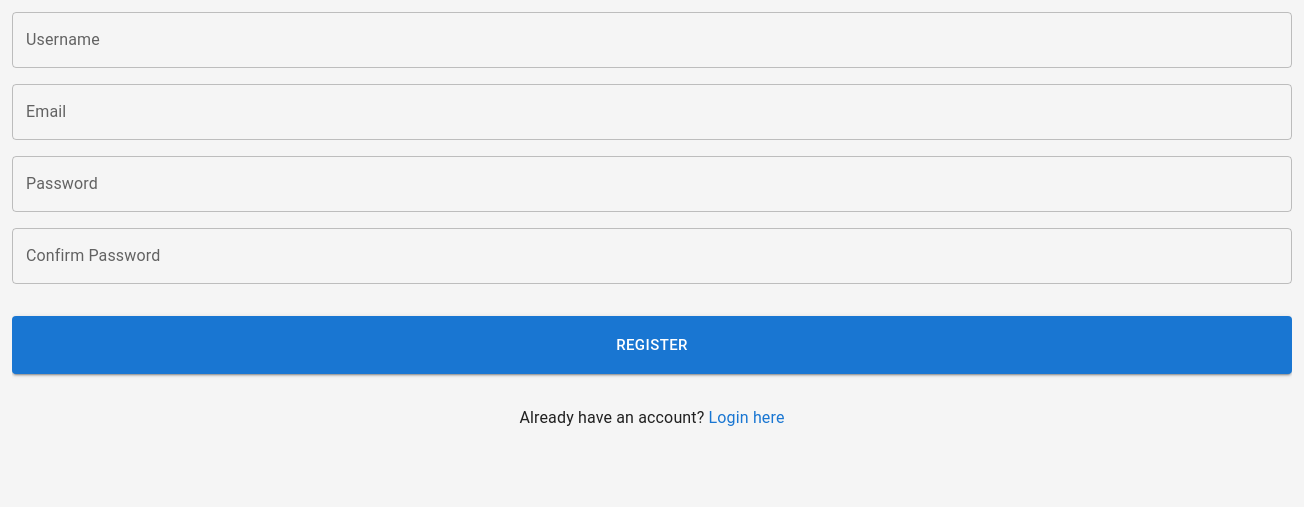
Test: RegisterForm › Correct inputs, error occurs
The width and height of the screenshot is (1304, 507).
Type "vojtisek123" into the field labelled "Username". click: (652, 40)
box: [12,12,1292,68]
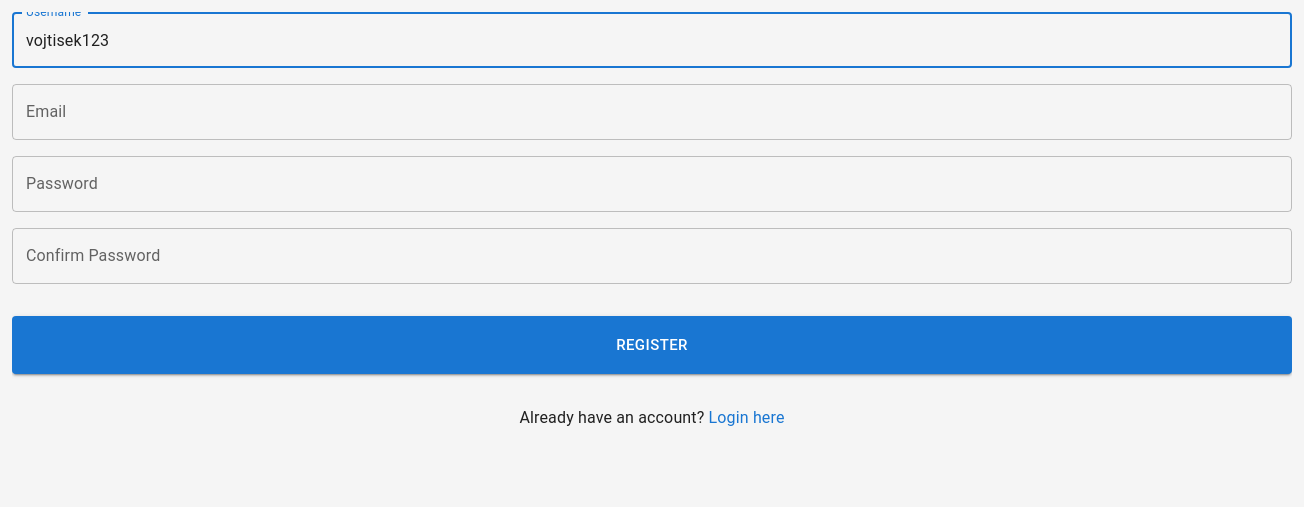
Type "vojta@email.com" into the field labelled "Email". click: (652, 112)
box: [12,84,1292,140]
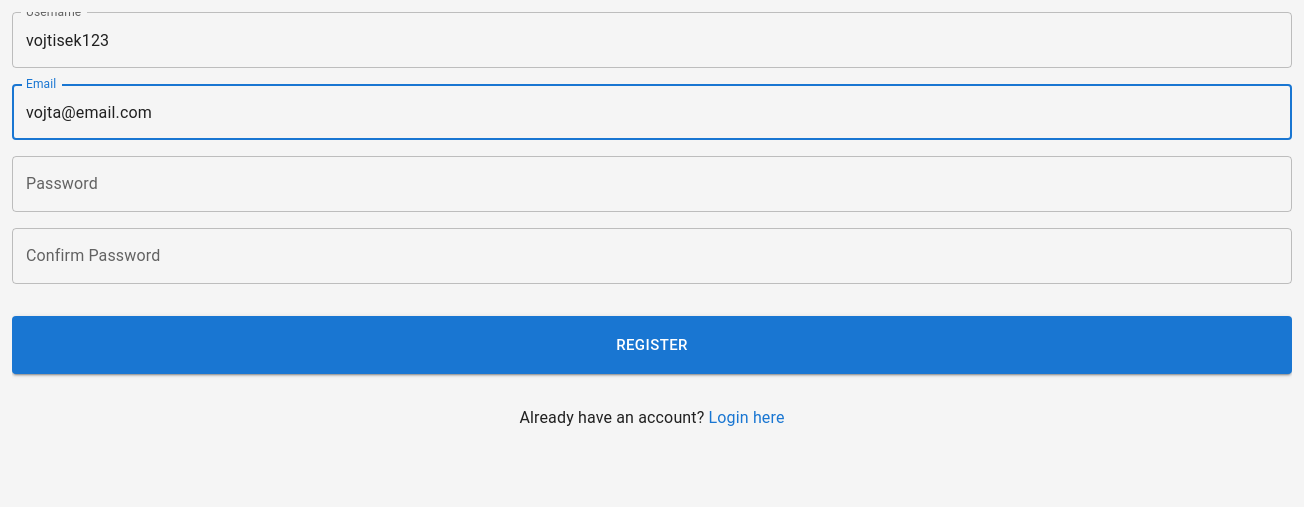
Type "Password" into the password field labelled "Password". click: (652, 184)
box: [12,156,1292,212]
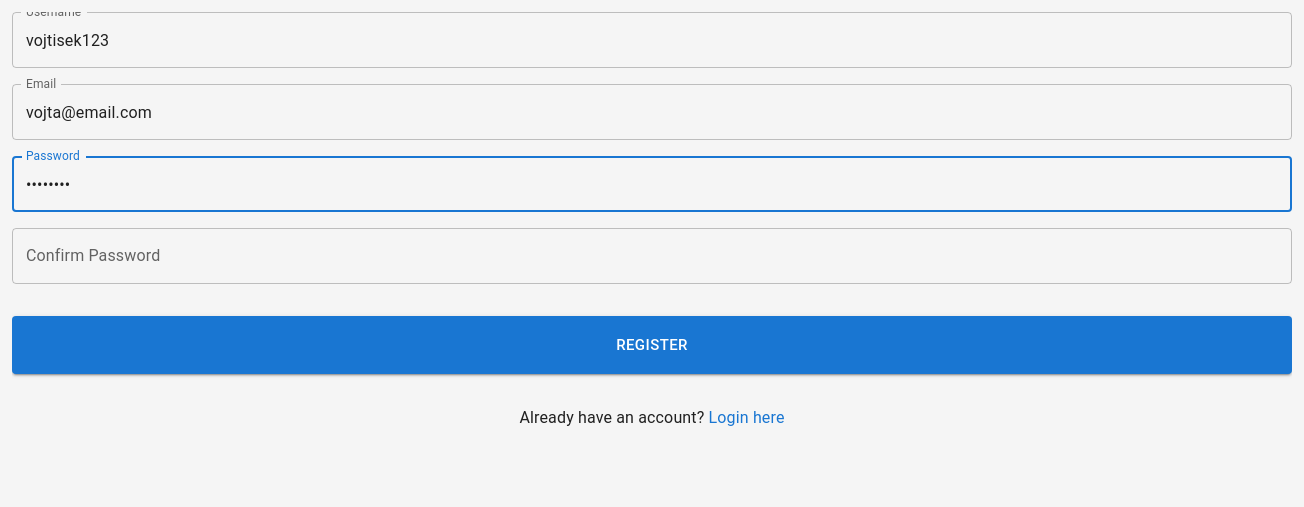
Type "Password" into the password field labelled "Confirm Password". click: (652, 256)
box: [12,228,1292,284]
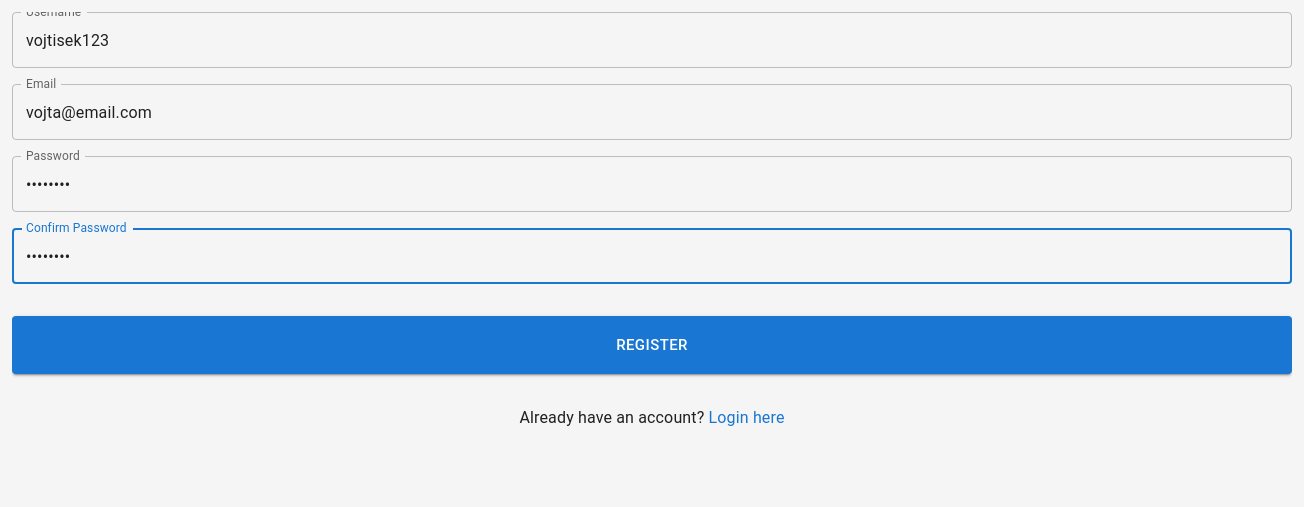
Click the button "Register". click: (652, 345)
box: [12,316,1292,374]
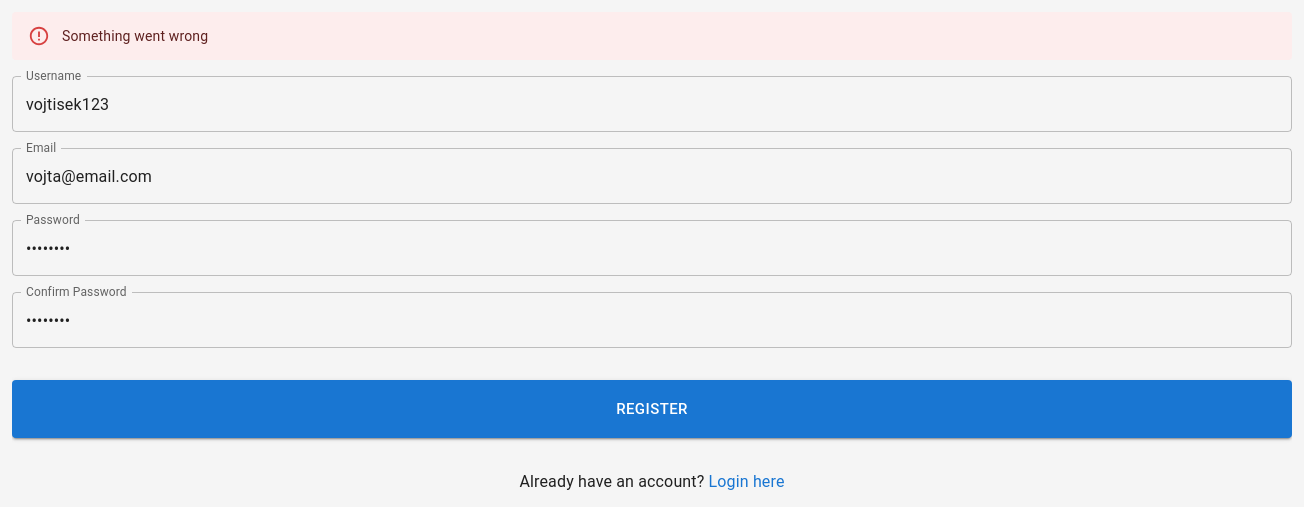
Check: the text "Something went wrong" is shown, box [62,28,208,44]
